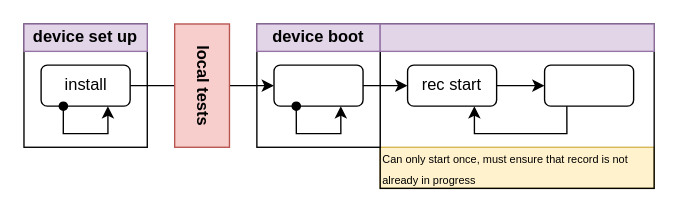
This 678x212 diagram has some shape labels left out. Here are the shapes that lost their labels. From the top down, the centre of each, then its label:
the point at 516,37: user
the point at 318,85: setup
the point at 588,85: rec stop
